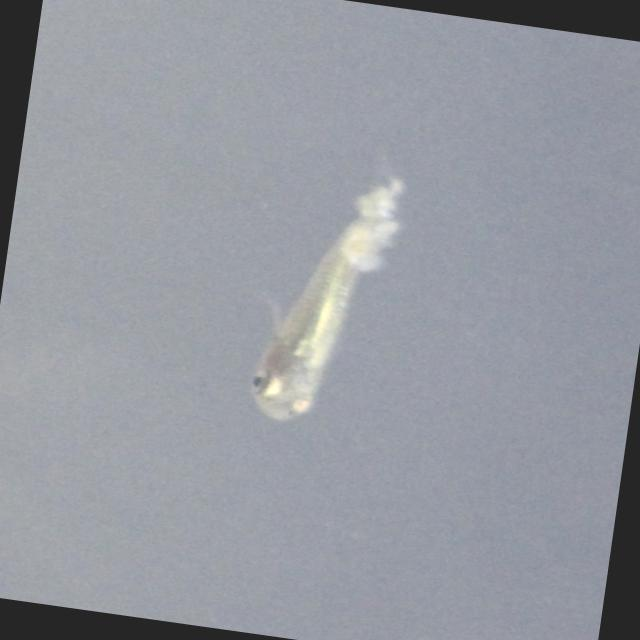Sivrisinek Baligi: (242, 159, 410, 435)
